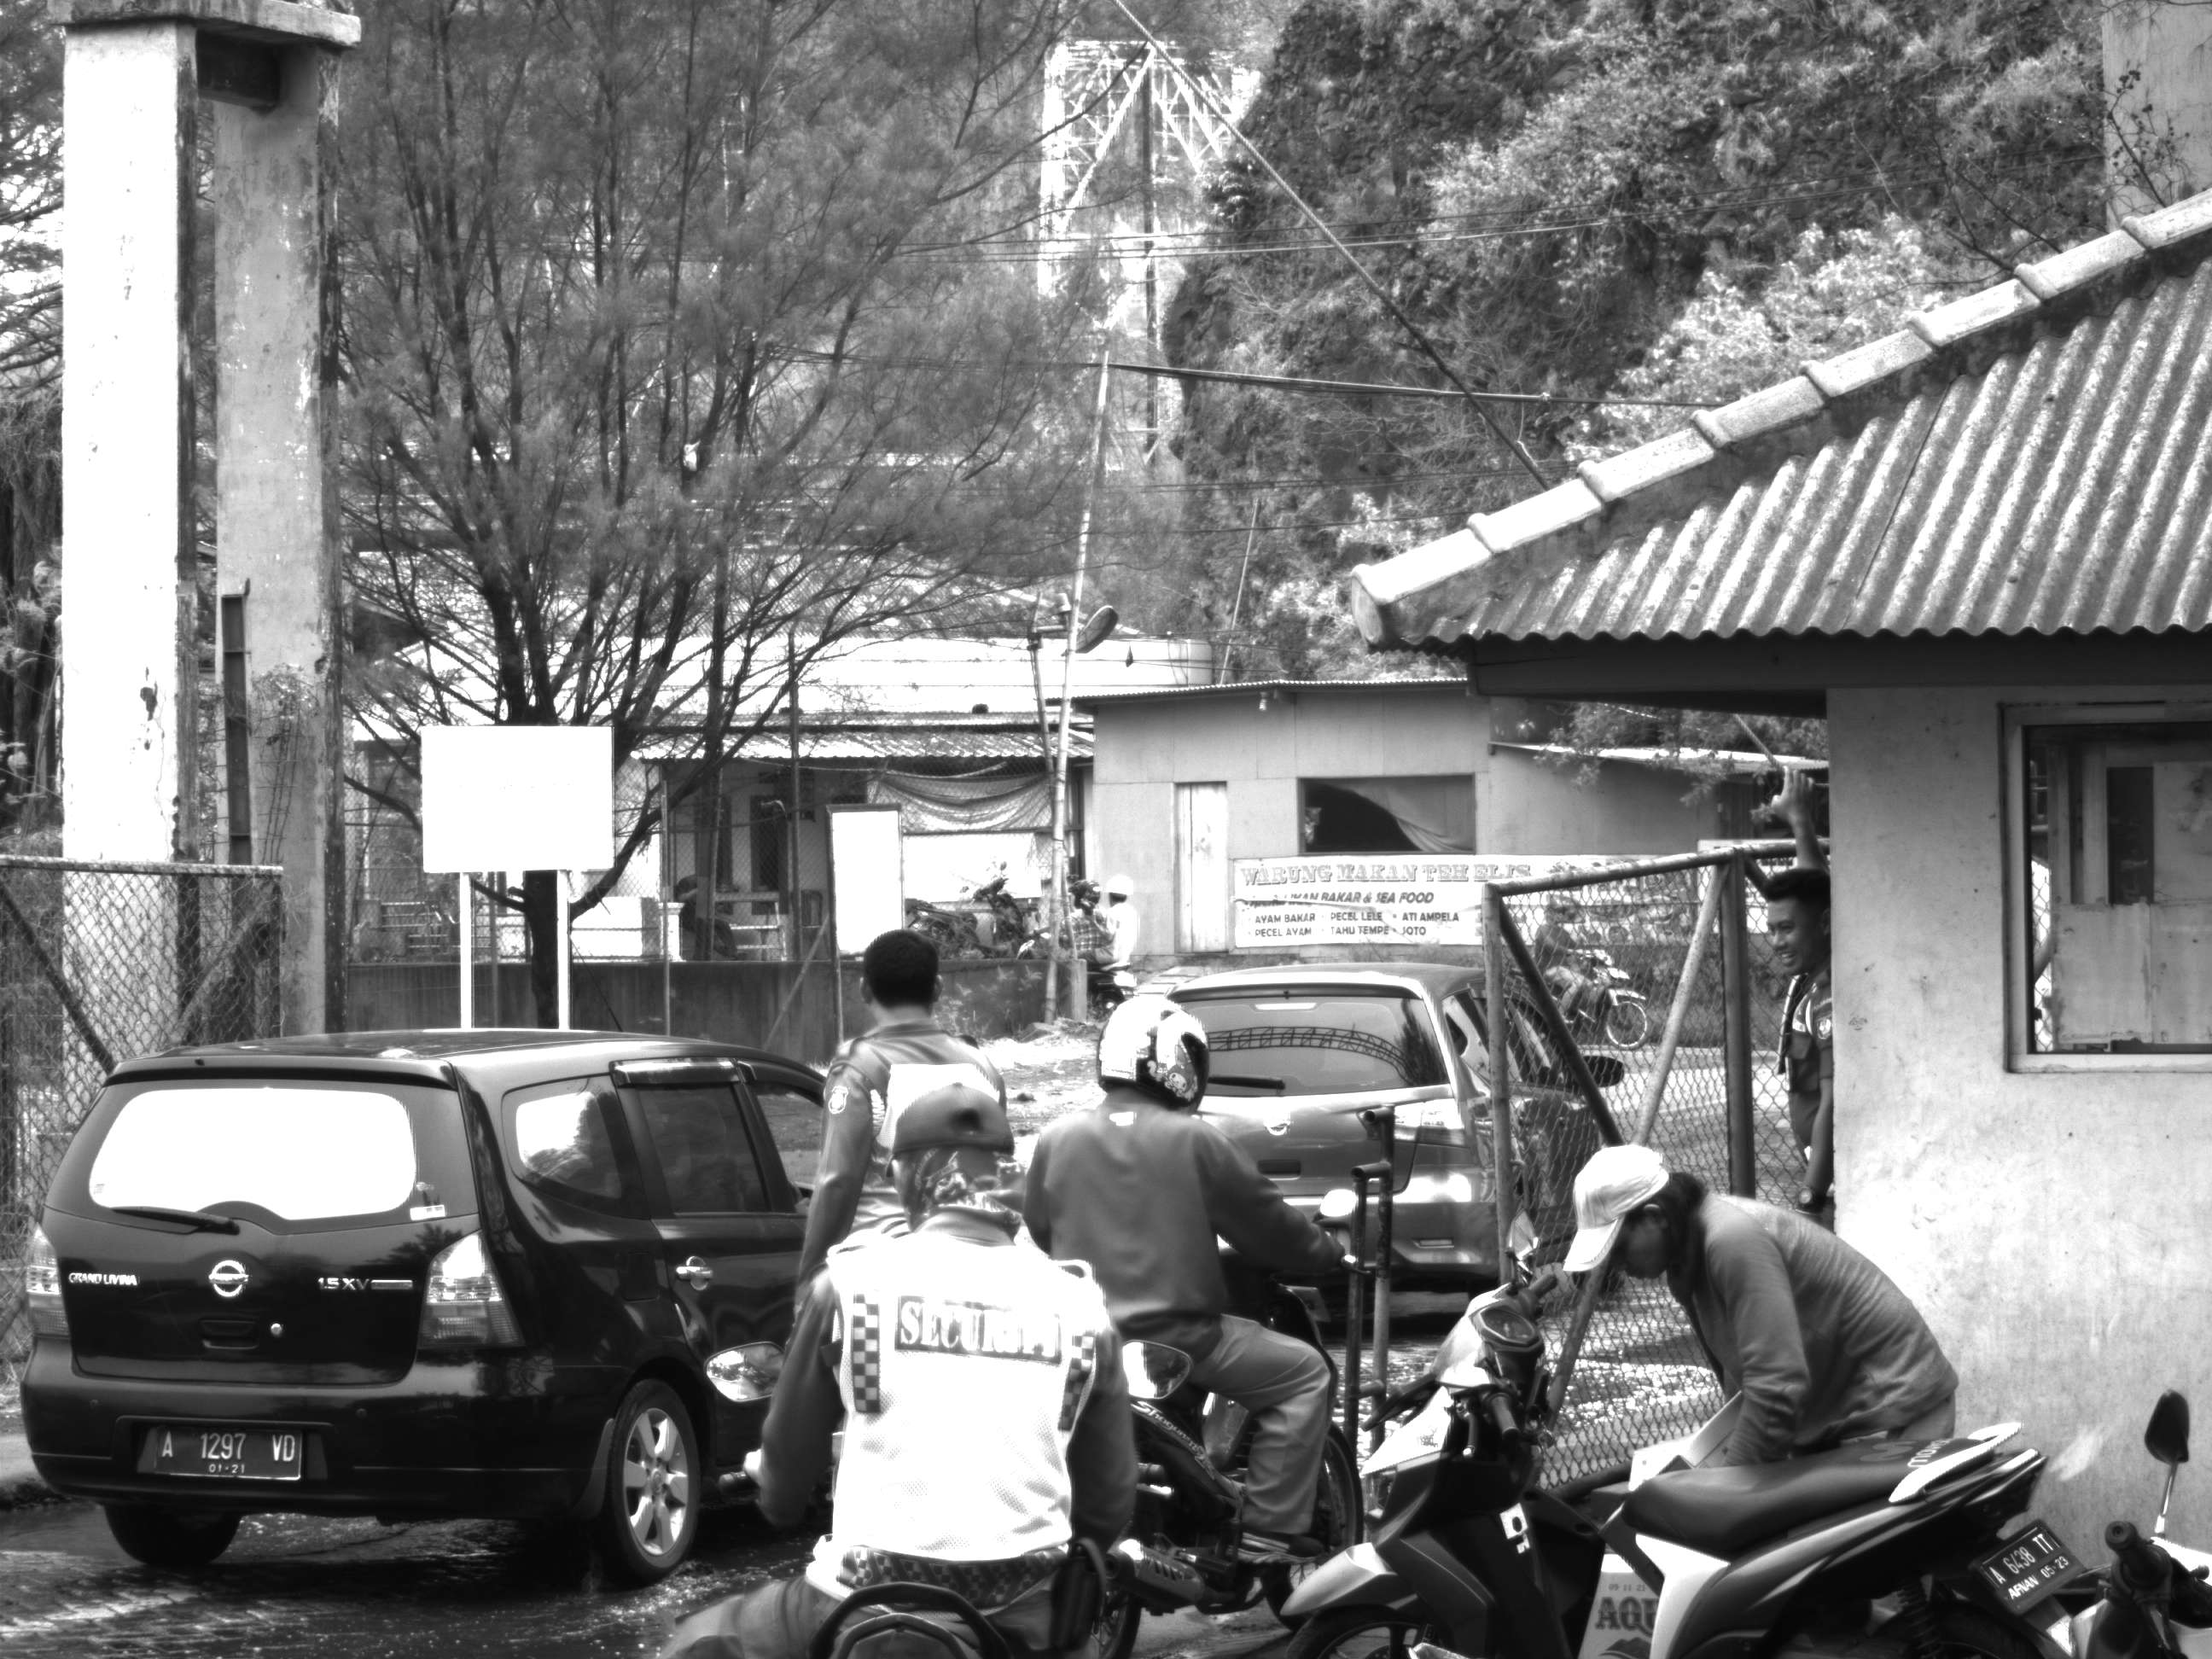day_motorcycle_front: (1254, 1273, 2085, 1659)
day_small_rear: (20, 1027, 717, 1577)
plate: (1965, 1522, 2093, 1615), (149, 1419, 310, 1490)
